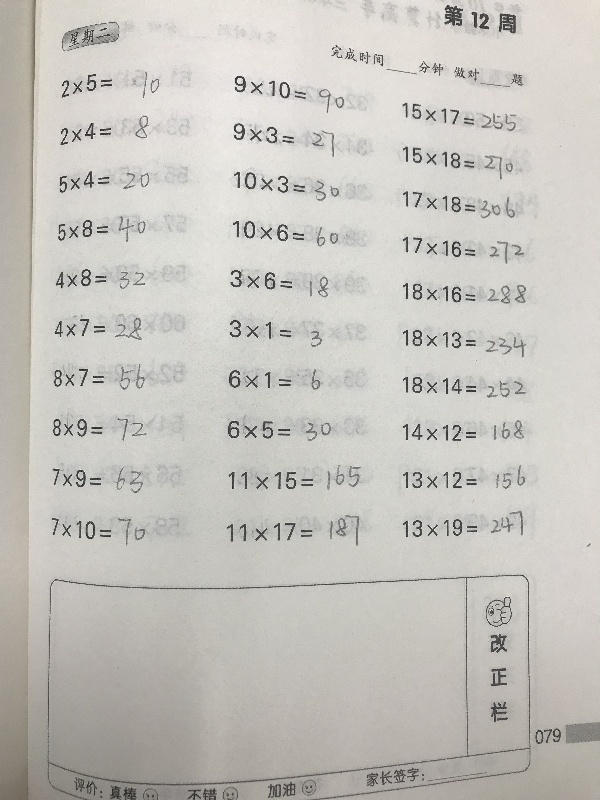equation: (223, 509, 363, 547), (233, 71, 349, 115), (397, 328, 529, 364), (224, 462, 365, 494), (399, 460, 532, 492), (229, 122, 347, 158), (48, 112, 166, 148), (400, 413, 530, 445), (232, 167, 346, 203), (399, 507, 526, 539), (399, 235, 528, 266), (227, 266, 335, 303), (227, 314, 335, 351), (48, 459, 153, 496), (398, 146, 526, 176), (52, 68, 171, 100), (223, 413, 336, 446), (399, 279, 529, 307), (399, 190, 519, 220), (48, 512, 147, 548), (49, 360, 149, 395), (50, 309, 155, 342), (229, 220, 344, 250), (48, 411, 155, 443), (398, 374, 529, 400), (224, 363, 334, 392), (53, 212, 149, 245), (397, 104, 520, 129), (55, 166, 153, 194), (52, 265, 149, 293)
